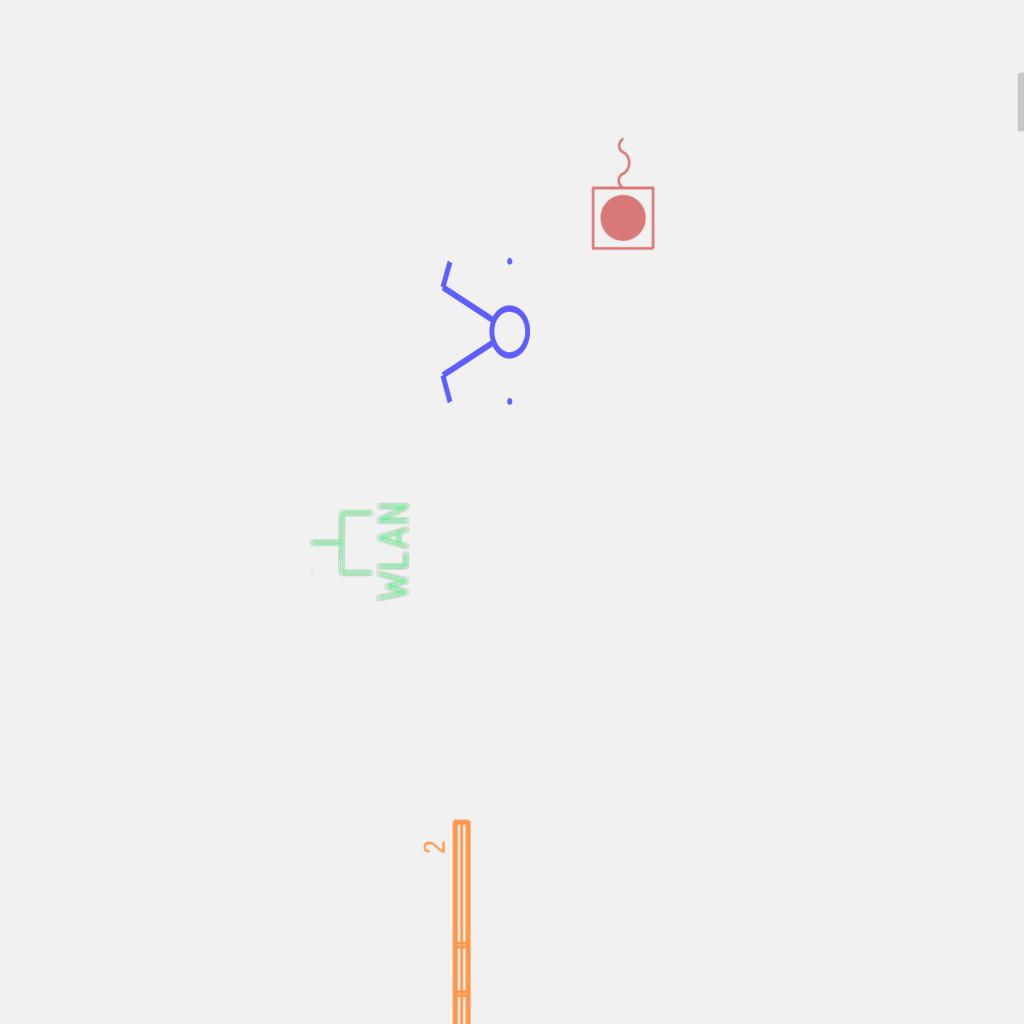Ambulanz_Pendelleuchte_LED: (421, 815, 477, 1024)
Serienschalter: (436, 249, 532, 417)
WLAN: (308, 500, 412, 605)
Zugtaster: (588, 132, 660, 254)
